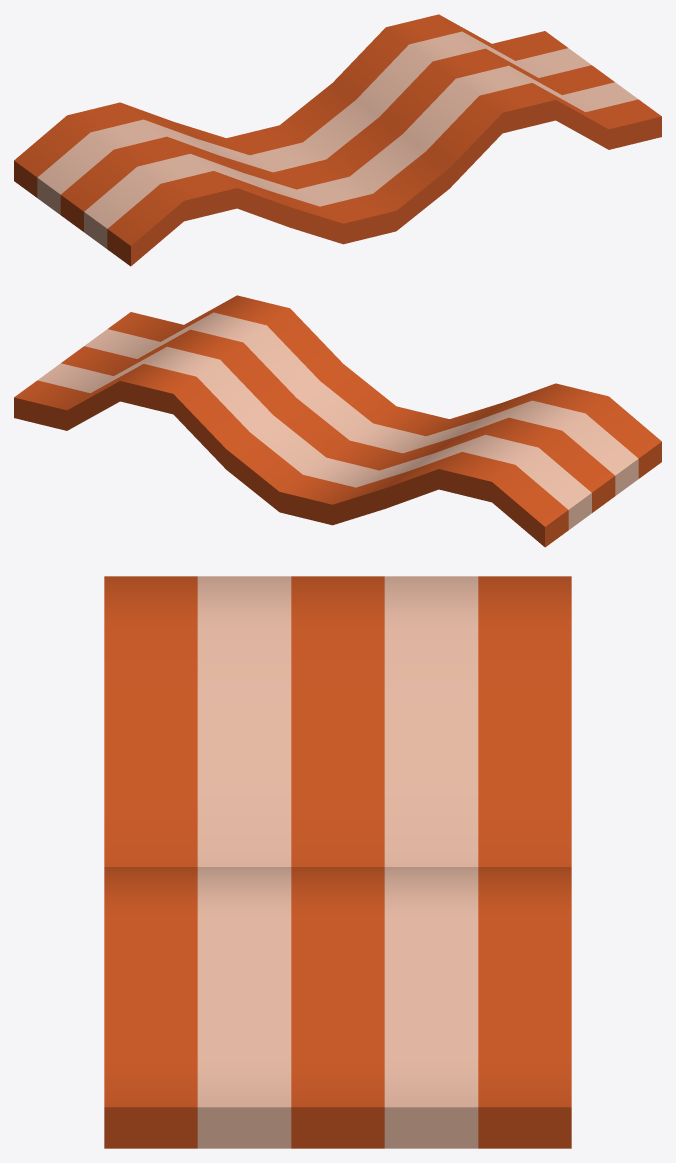
File: bacon 1.FBX
3 views of the same model, one above another, from view 1: azimuth 30°, elevation 25°; view 2: azimuth 150°, elevation 25°; view 3: azimuth 270°, elevation 25° (orthographic). The views are drawn at different scales.
Visible parts, largest first — view 1: Box001; view 2: Box001; view 3: Box001.
Part boxes in pixels (x1,y1,x2,y2): Box001: (14, 14, 661, 266); Box001: (14, 295, 661, 547); Box001: (104, 576, 571, 1148).
Bounding box in the file's own units: 36.92 × 6.15 × 14.07.
